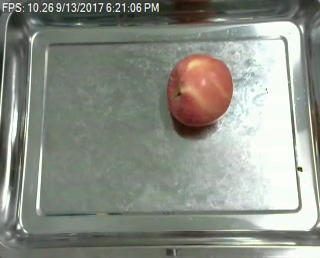Apple: (163, 51, 236, 130)
